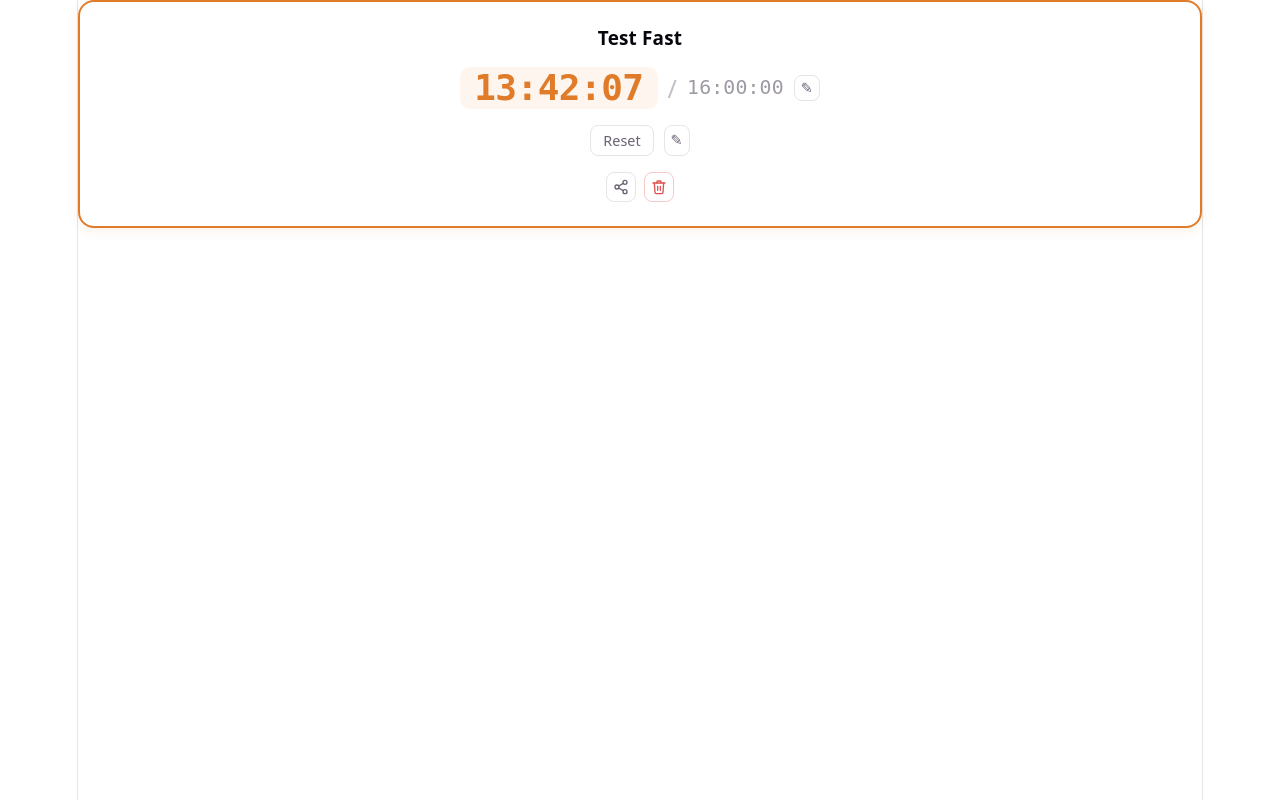
Test: FastWatch set start time › initializes the input with the current startedAt value
The width and height of the screenshot is (1280, 800).
What coordinates should you click on to do the following:
click the button with test id "set-start-button"
I would click on:
 (677, 140)
Its box is [664,125,690,156].
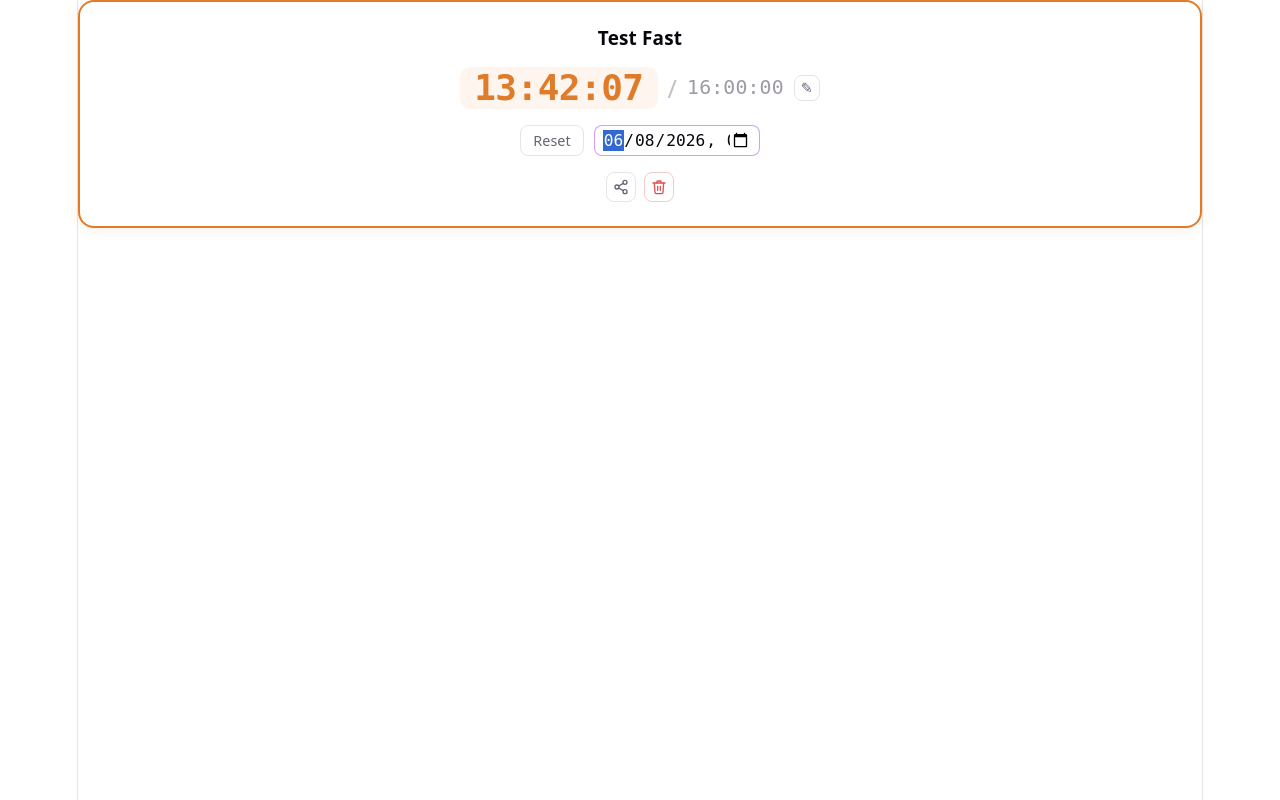
Expected: the field with test id "set-start-input" holds "2026-06-08T08:00", [594,125,760,156]
